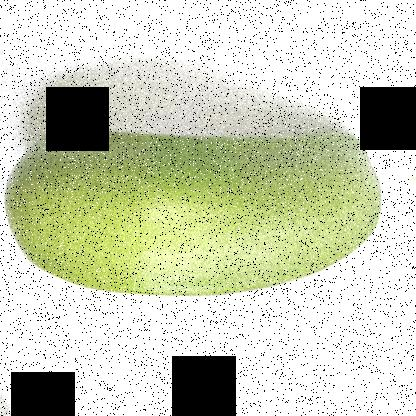freshunripe: (0, 116, 392, 303)
